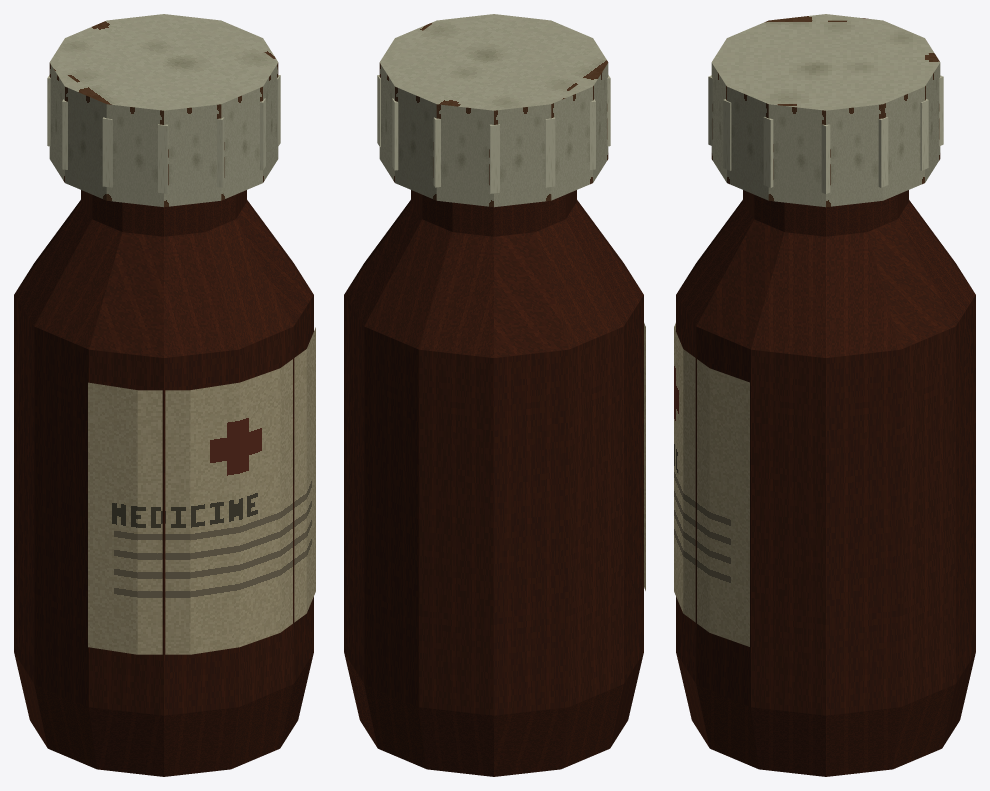
File: medicine_bottle.glb
The picture shows the model from 3 angles, left to right: view 1: azimuth 30°, elevation 25°; view 2: azimuth 150°, elevation 25°; view 3: azimuth 270°, elevation 25°; orthographic projection.
Visible parts, largest first — view 1: Medicine_Bottle_Amber_Mesh.002, Bottle printed wrap.002, Bottle_Cap_Mesh.002; view 2: Medicine_Bottle_Amber_Mesh.002, Bottle_Cap_Mesh.002, Bottle printed wrap.002; view 3: Medicine_Bottle_Amber_Mesh.002, Bottle_Cap_Mesh.002, Bottle printed wrap.002.
Boxes of the visible parts, box(x1,y1,x2,y2) form: Medicine_Bottle_Amber_Mesh.002: box(14, 190, 313, 776); Bottle printed wrap.002: box(88, 327, 315, 654); Bottle_Cap_Mesh.002: box(47, 14, 280, 207); Medicine_Bottle_Amber_Mesh.002: box(344, 190, 643, 776); Bottle_Cap_Mesh.002: box(377, 14, 610, 207); Bottle printed wrap.002: box(644, 323, 645, 590); Medicine_Bottle_Amber_Mesh.002: box(676, 190, 975, 776); Bottle_Cap_Mesh.002: box(708, 14, 943, 207); Bottle printed wrap.002: box(674, 323, 749, 646).
Bounding box in the file's own units: 0.076 × 0.184 × 0.0765.
Materials: 3 (3 with a texture image).
